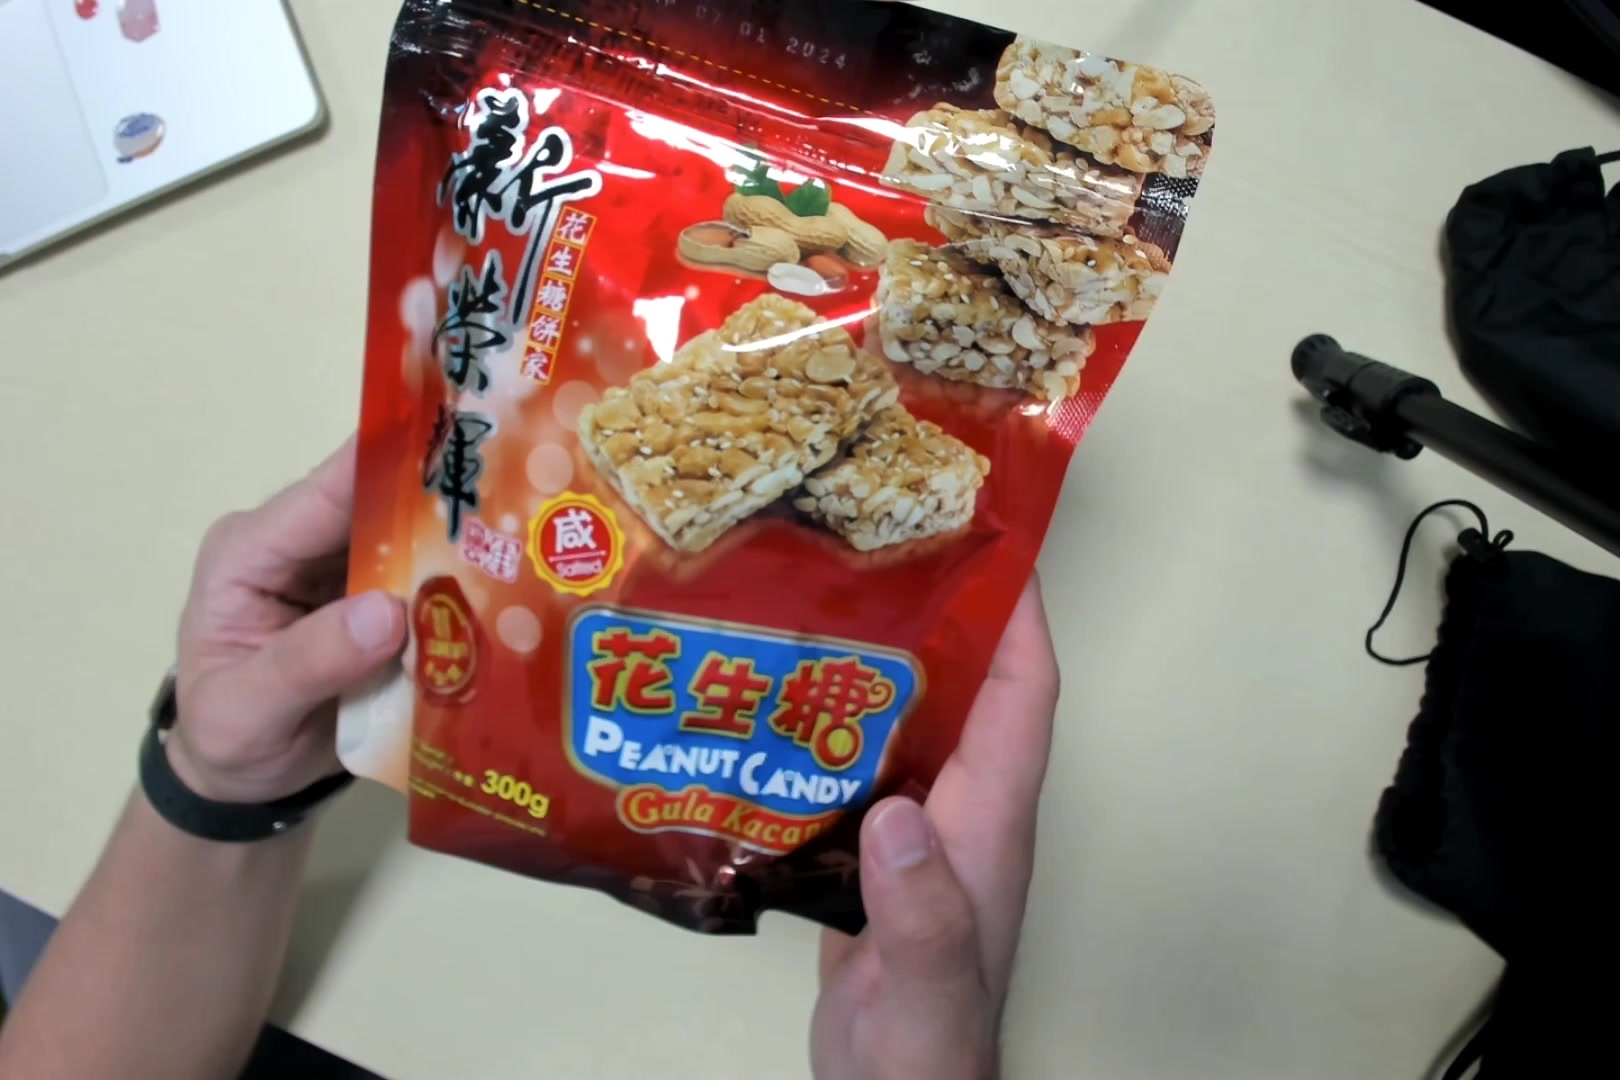SweetsChocolatesOthers_300-399g_NonHalal_NonHealthy: (325, 1, 1216, 945)
